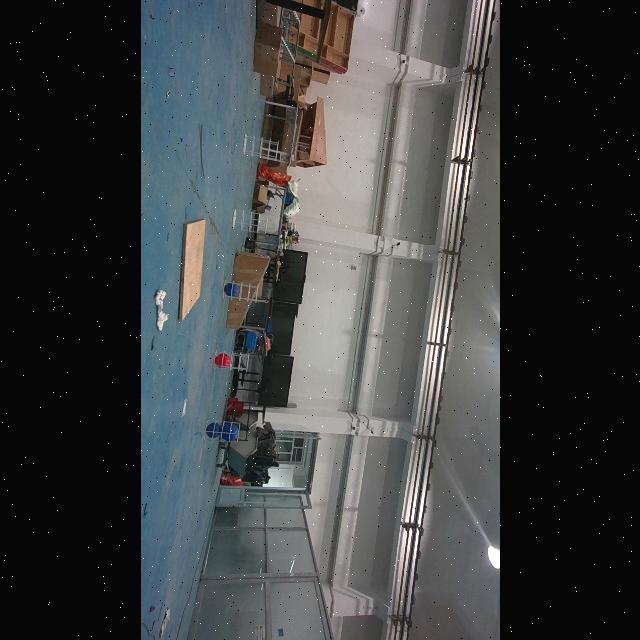B: (220, 422, 236, 442), (205, 421, 221, 439), (225, 281, 239, 299)
R: (215, 352, 229, 370)
S: (228, 207, 272, 236), (239, 132, 281, 162), (201, 416, 241, 444), (219, 278, 261, 304), (211, 350, 251, 374)
